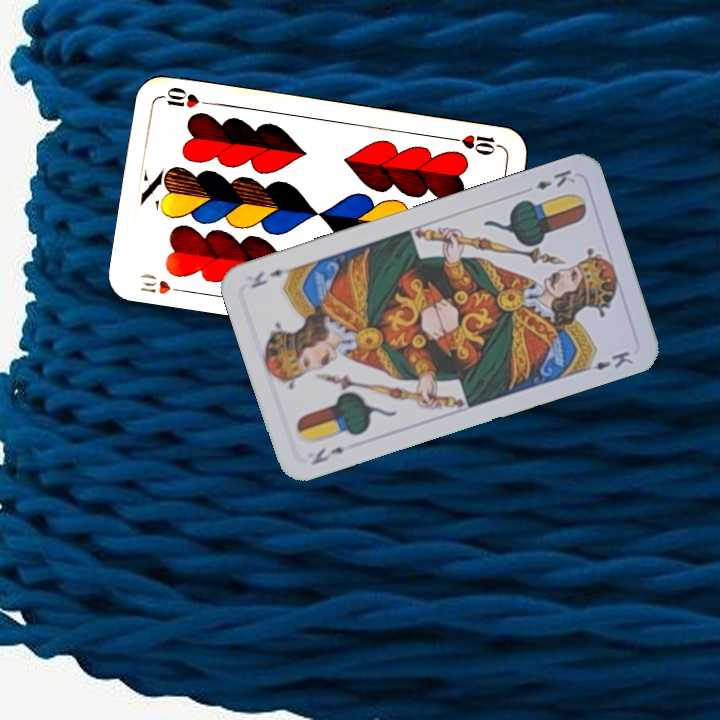EK: (531, 165, 578, 193), (307, 443, 347, 468)
H10: (447, 130, 506, 158), (136, 269, 191, 297)
